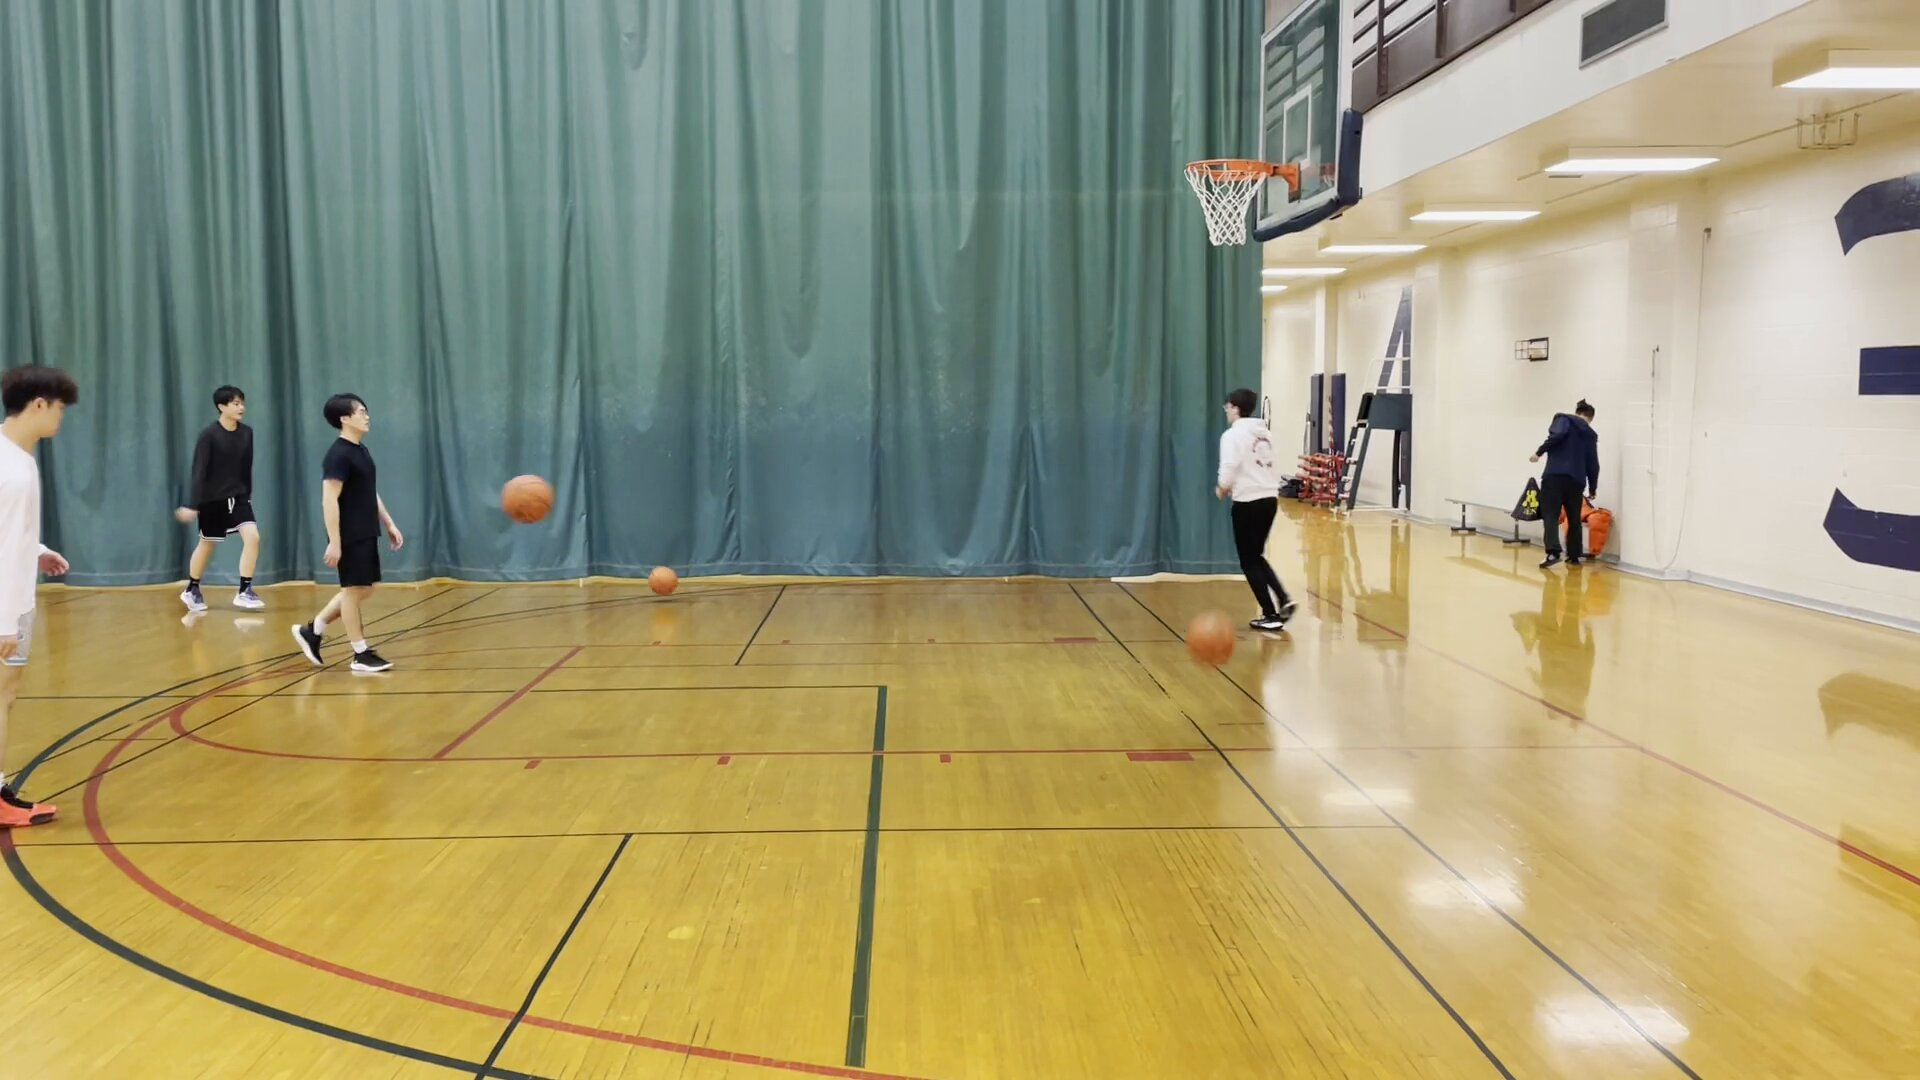ball: (496, 469, 557, 531), (1182, 608, 1243, 669), (643, 562, 681, 598)
net: (1198, 221, 1255, 254)
player: (1, 357, 81, 841), (289, 379, 405, 683), (176, 378, 274, 622), (1212, 389, 1298, 639), (1531, 389, 1602, 572)
rim: (1177, 151, 1282, 189)
